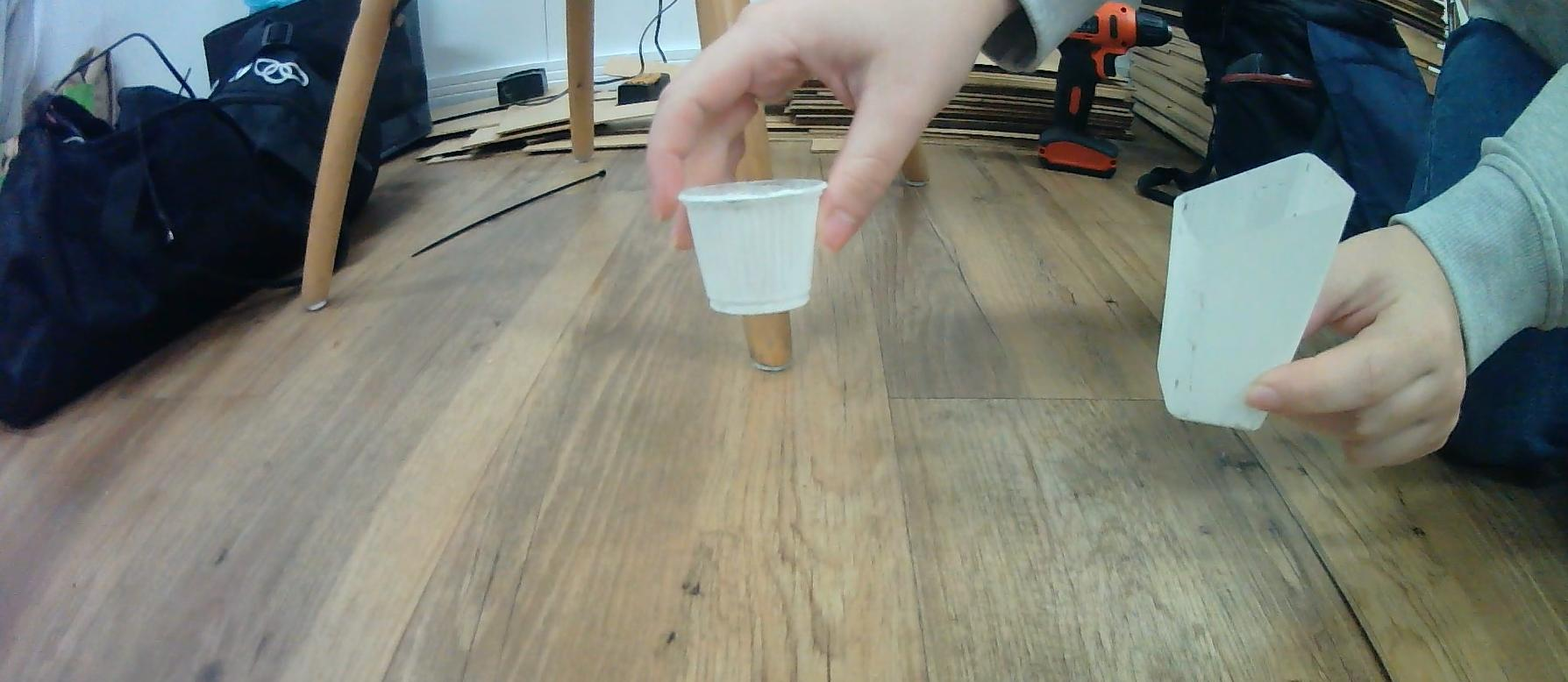erva_daninha: (1154, 152, 1356, 433)
planta: (680, 177, 828, 316)
